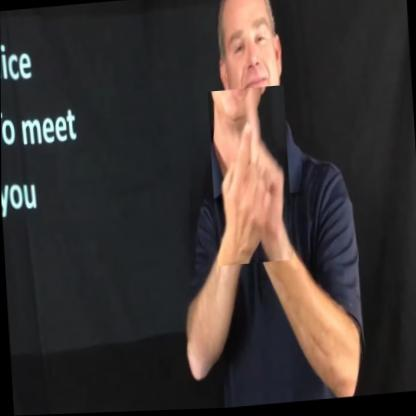NiceToMeetYou: (207, 87, 293, 267)
